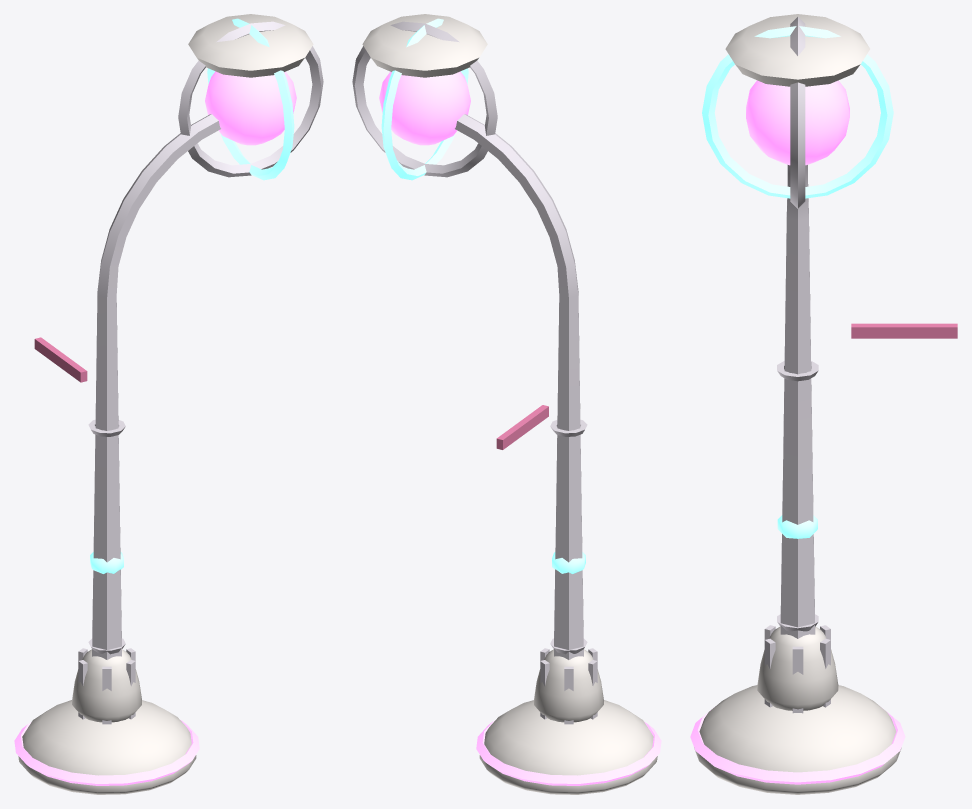
The model's file is lamp_futuristic.glb.
3 renders of one model, left to right at view 1: azimuth 30°, elevation 25°; view 2: azimuth 150°, elevation 25°; view 3: azimuth 270°, elevation 25°, orthographic. The views are drawn at different scales.
Parts seen in each view (by area): view 1: lamp_futuristic; view 2: lamp_futuristic; view 3: lamp_futuristic.
Boxes of the visible parts, bbox=[...] form: lamp_futuristic: bbox=[14, 14, 323, 794]; lamp_futuristic: bbox=[352, 14, 661, 794]; lamp_futuristic: bbox=[690, 14, 957, 794].
Size of the model in its own units: 1.86 by 4.2 by 1.25.
